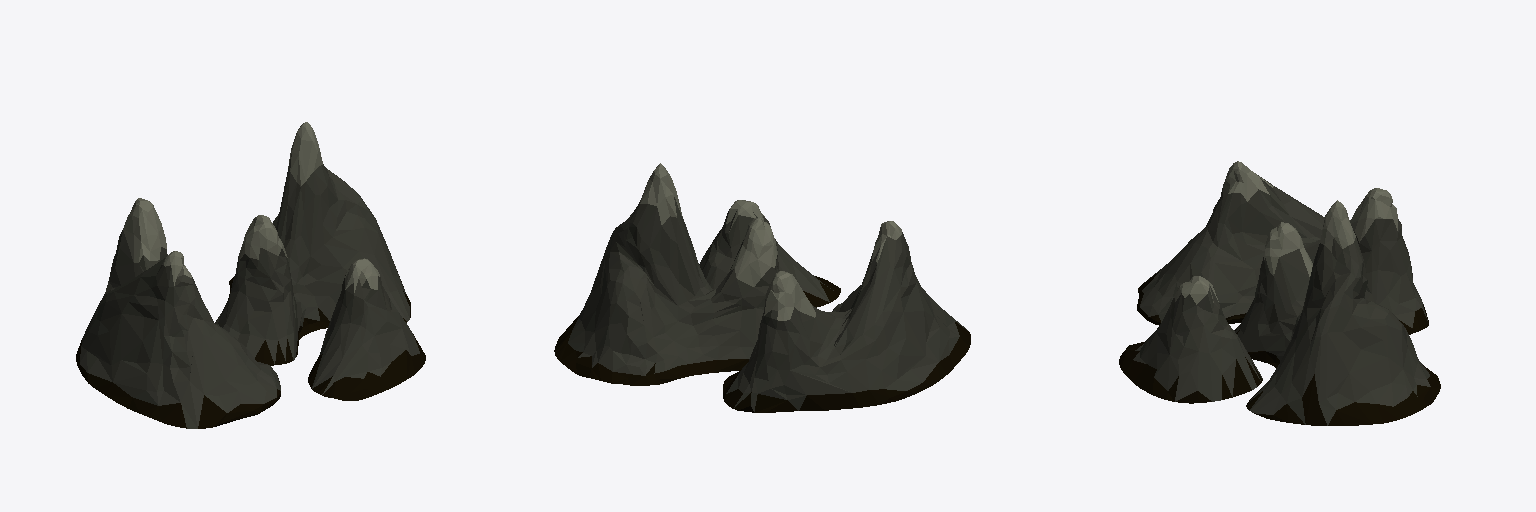
Rendered from Mountain_Group_1_Cube.obj.
3 views of the same model, side by side, from view 1: azimuth 30°, elevation 25°; view 2: azimuth 150°, elevation 25°; view 3: azimuth 270°, elevation 25° (orthographic).
Visible parts, largest first — view 1: Mountain_Group_1_Cube.039; view 2: Mountain_Group_1_Cube.039; view 3: Mountain_Group_1_Cube.039.
Boxes of the visible parts, x1=… form: Mountain_Group_1_Cube.039: x1=76, y1=122, x2=425, y2=428; Mountain_Group_1_Cube.039: x1=554, y1=163, x2=970, y2=412; Mountain_Group_1_Cube.039: x1=1119, y1=161, x2=1440, y2=425.
Bounding box in the file's own units: 4.59 × 2.49 × 3.84.